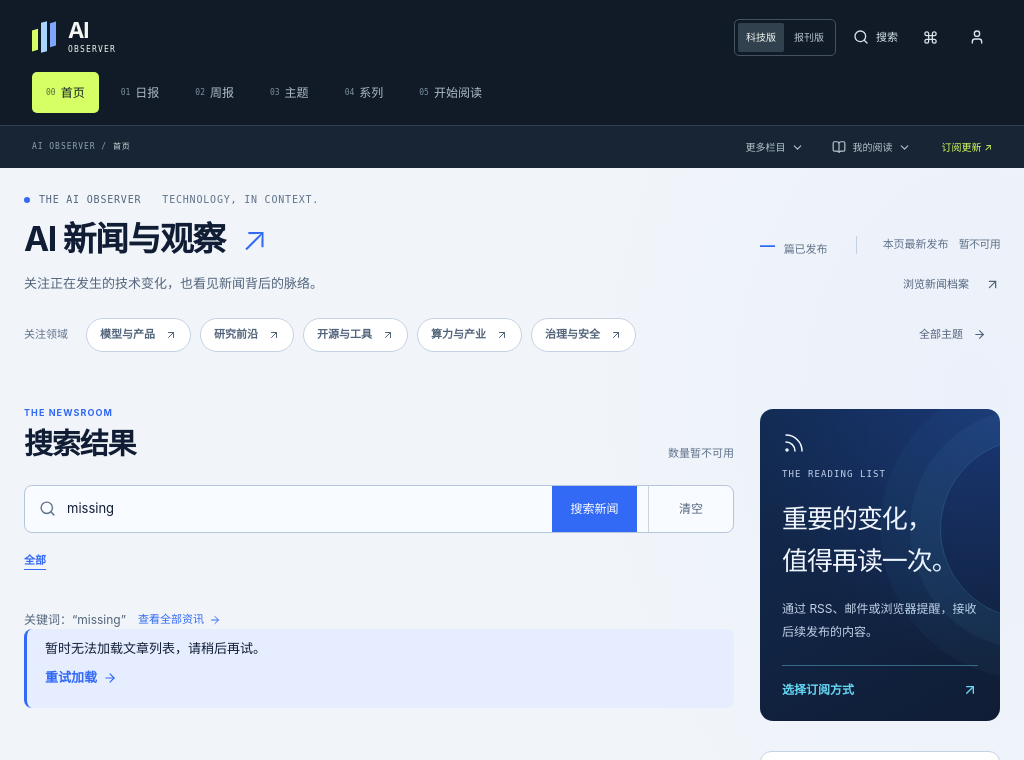
Test case: distinguishes unavailable news metrics from a successfully loaded empty result
Expected: the text "暂时无法加载文章列表，请稍后再试。" is shown, x1=45 y1=640 x2=266 y2=656
Expected: the text "—" is shown, x1=760 y1=225 x2=774 y2=265
Click the button "重试加载": (81, 678) x1=45 y1=658 x2=117 y2=698
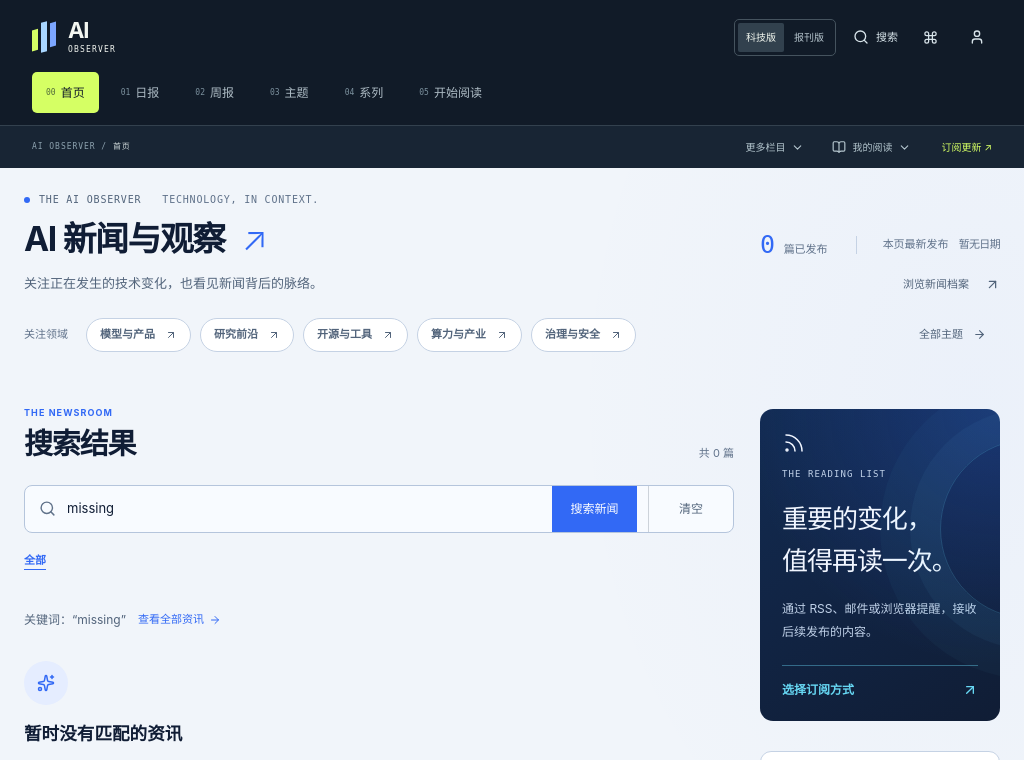
Result: the heading "暂时没有匹配的资讯" is shown at x1=24 y1=723 x2=182 y2=744
Result: the text "0" is shown at x1=760 y1=225 x2=774 y2=265
Result: the text "暂无日期" is shown at x1=959 y1=236 x2=1000 y2=254
